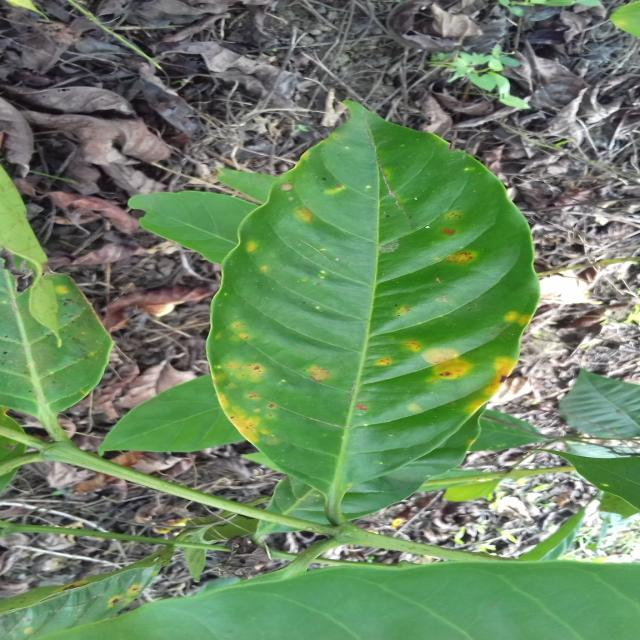Enfermedad-Roya: (204, 102, 532, 514)
